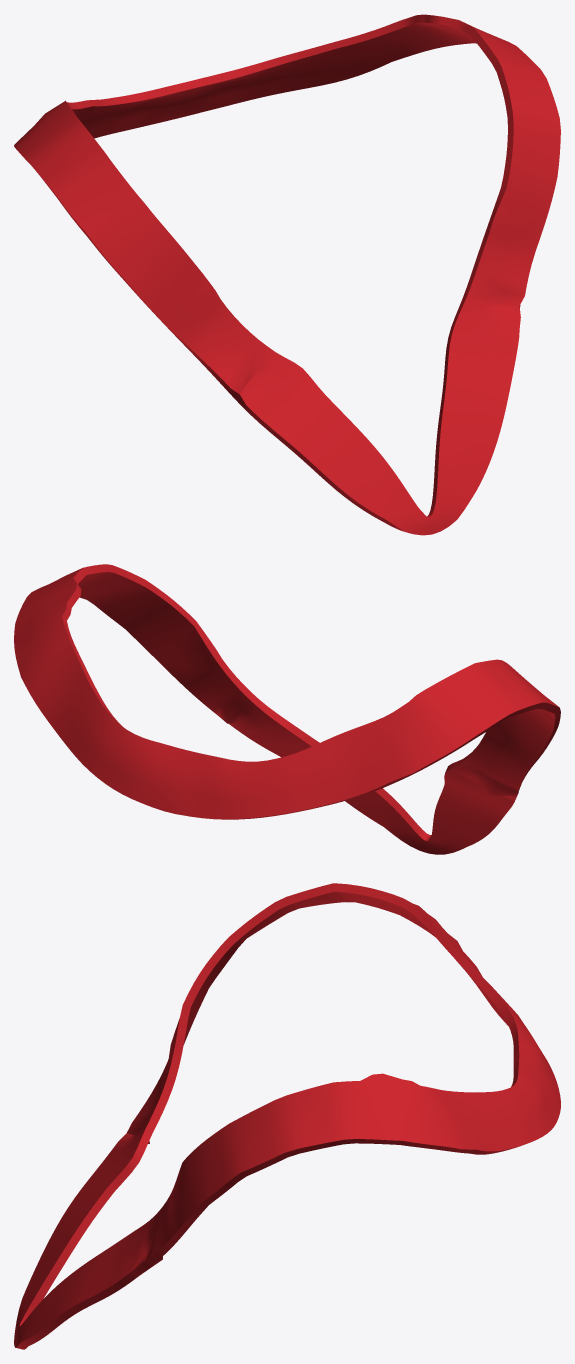
The model's file is WornMedal_Ribbon_BigBuff.glb.
3 renders of one model, top to bottom at view 1: azimuth 30°, elevation 25°; view 2: azimuth 150°, elevation 25°; view 3: azimuth 270°, elevation 25°, orthographic. The views are drawn at different scales.
Visible parts, largest first — view 1: WornMedal_Ribbon_BigBuff; view 2: WornMedal_Ribbon_BigBuff; view 3: WornMedal_Ribbon_BigBuff.
Part boxes in pixels (<box>): WornMedal_Ribbon_BigBuff: <box>14,14,560,535</box>; WornMedal_Ribbon_BigBuff: <box>14,564,560,854</box>; WornMedal_Ribbon_BigBuff: <box>14,883,560,1349</box>.
Bounding box in the file's own units: 1.72 × 1.17 × 1.6.
